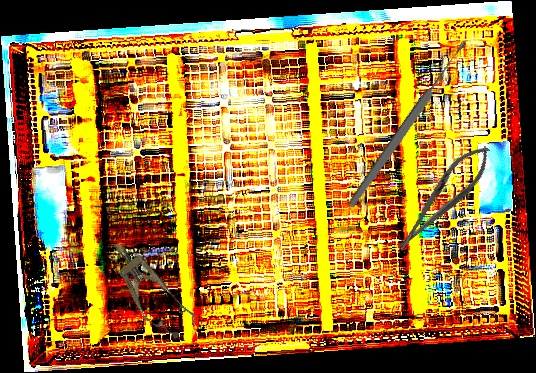Needle Holder: (386, 136, 500, 260)
Speculum: (98, 230, 201, 347)
Surgical Spoon: (345, 37, 471, 211)
